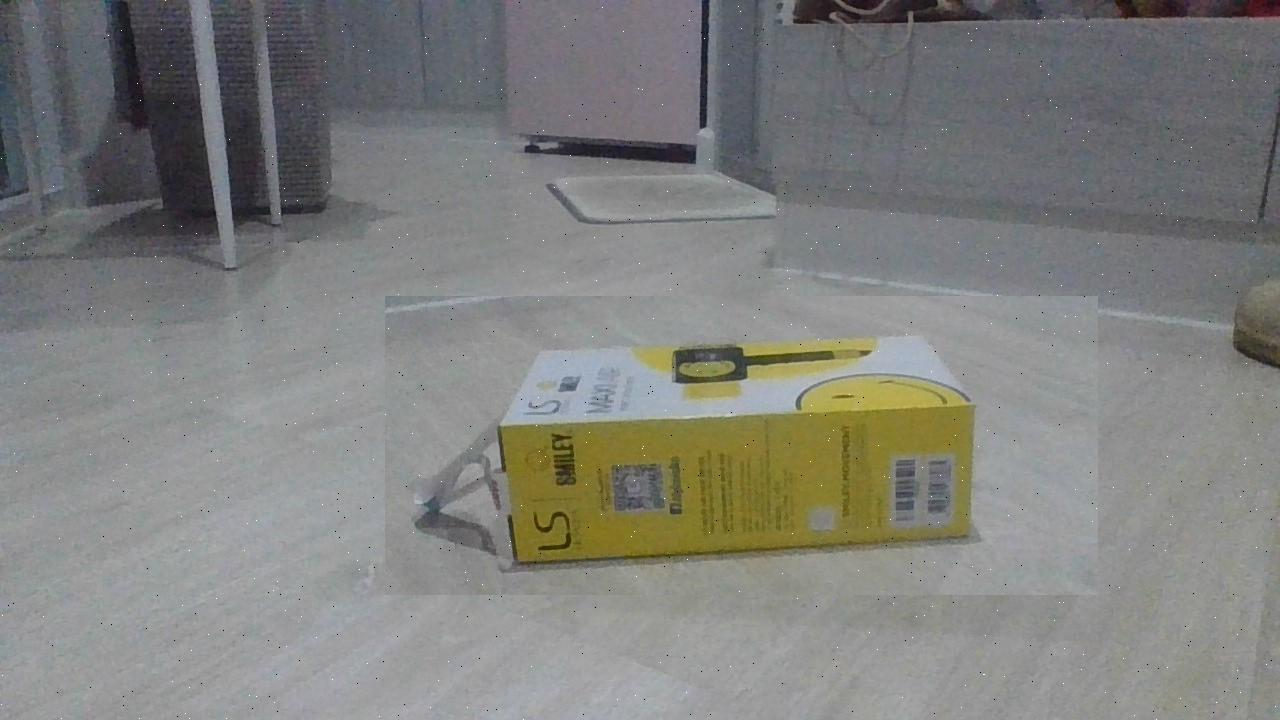Dryer: (385, 296, 1098, 595)
